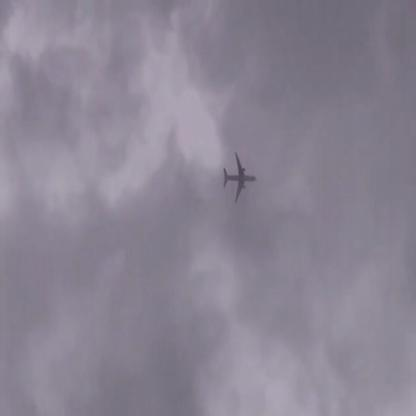CIV_Plane: (223, 154, 259, 204)
